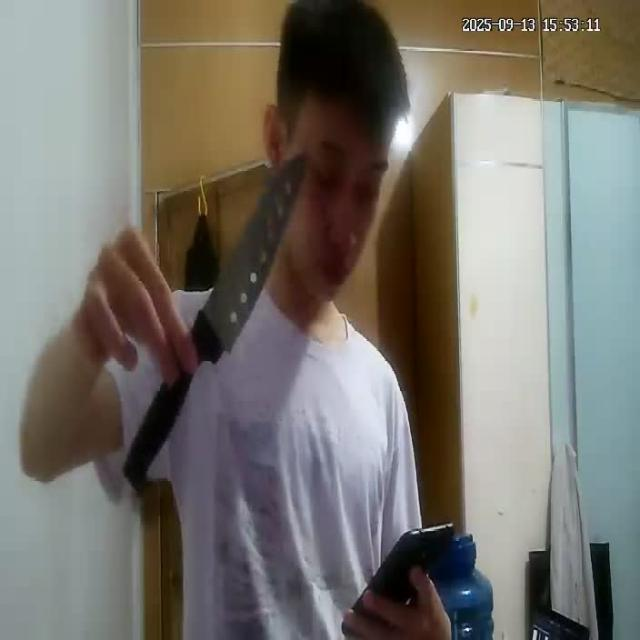senjata_tajam: (121, 145, 312, 496)
